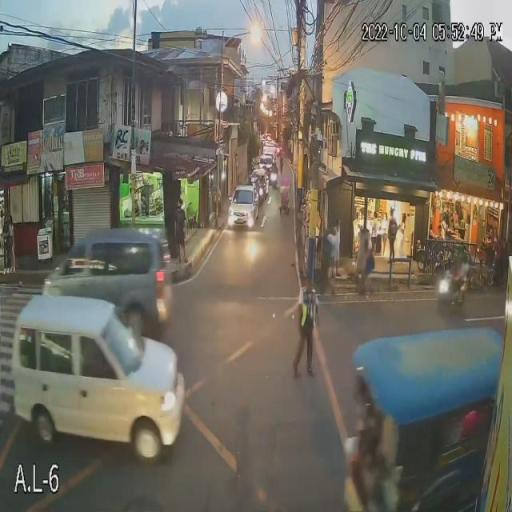motorcycle: (435, 274, 466, 308)
rider: (451, 261, 465, 287)
